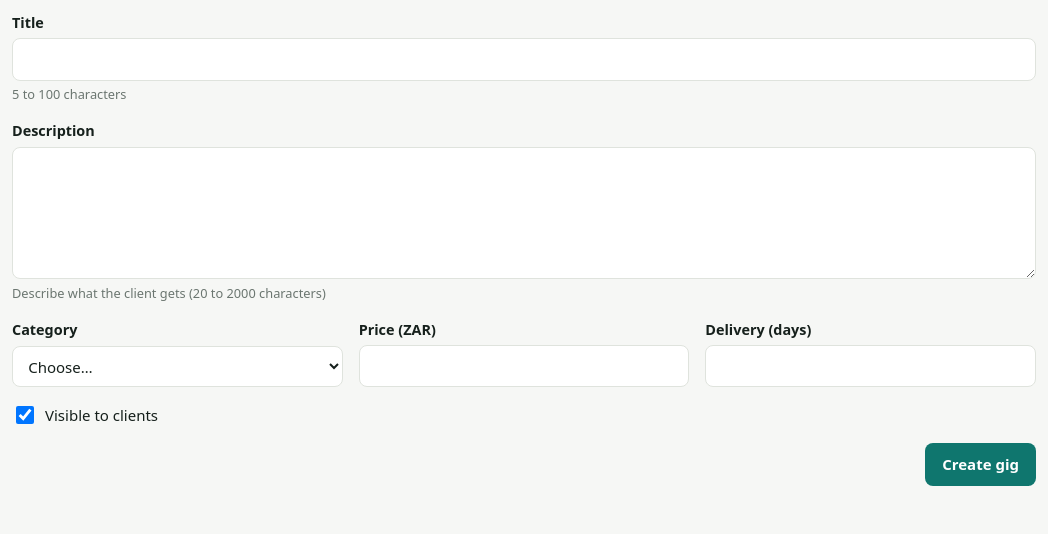
Test: GigForm › shows validation errors and does not submit invalid data
The image size is (1048, 534).
Type "Hi" into the field labelled "Title". click: (524, 59)
box: left=12, top=38, right=1036, bottom=80
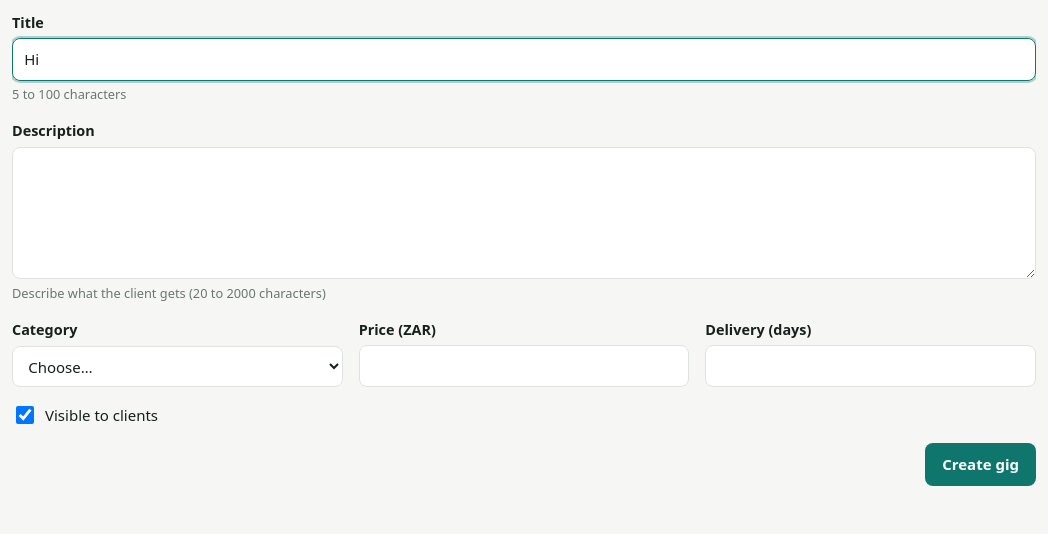
Type "10" into the number field labelled "Price (ZAR)". click: (524, 366)
box: left=359, top=345, right=689, bottom=388
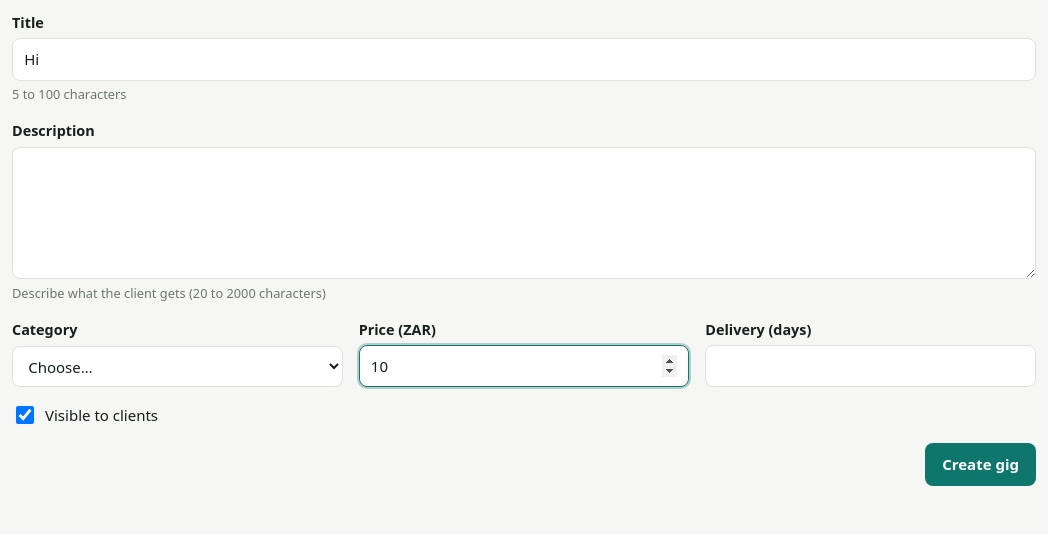
Click the button "Create gig". click: (981, 465)
box: left=925, top=444, right=1036, bottom=486
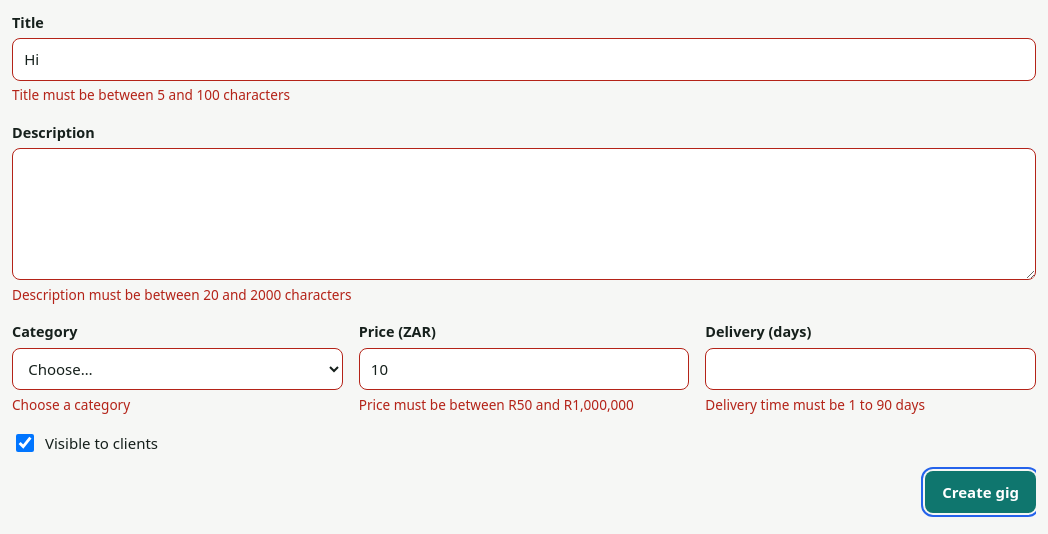
Check: the text "Title must be between 5 and 100 characters" is shown, box left=12, top=85, right=290, bottom=104
Check: the text "Price must be between R50 and R1,000,000" is shown, box left=359, top=395, right=634, bottom=414
